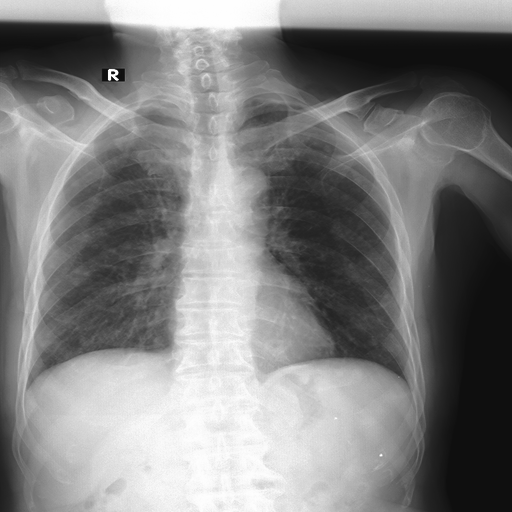Calcification: (112, 99, 186, 114), (248, 91, 308, 108)
Consolidation: (231, 166, 271, 202)
Pulmonary fibrosis: (300, 138, 410, 370), (52, 173, 174, 330), (69, 266, 93, 286), (78, 337, 90, 346), (310, 162, 322, 171), (121, 241, 131, 251), (322, 145, 332, 153), (340, 193, 349, 201), (290, 175, 298, 183), (367, 339, 376, 346), (317, 255, 326, 262), (344, 229, 352, 235)
